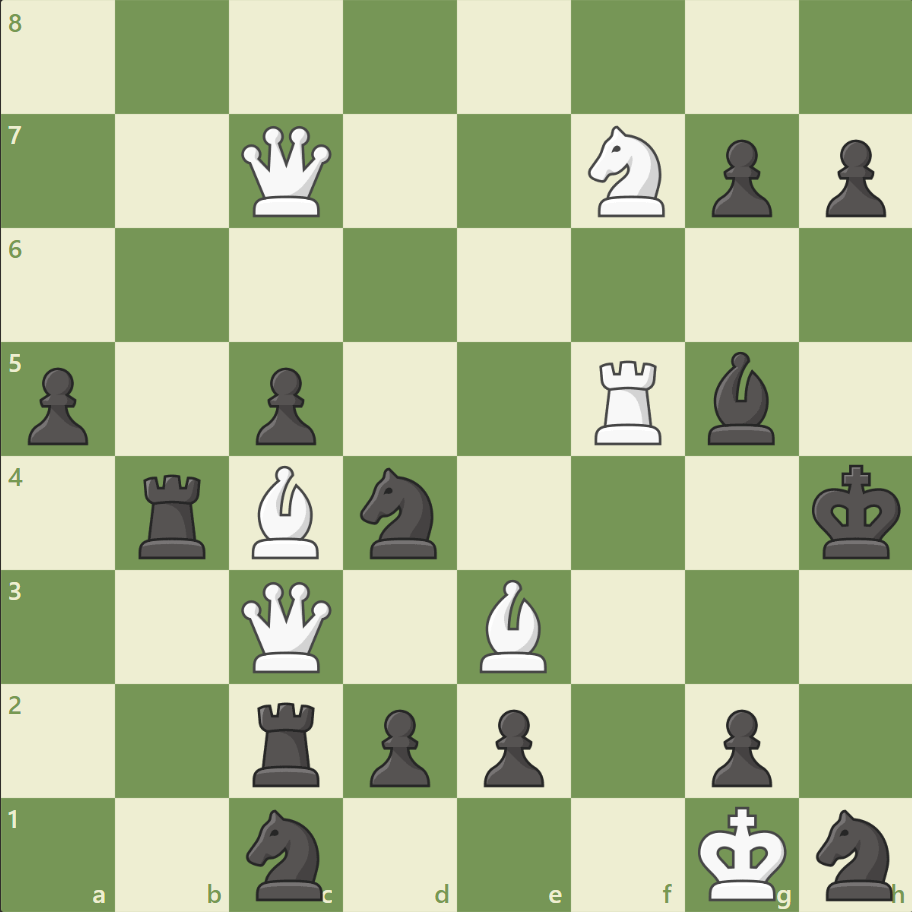B: (244, 460, 328, 563), (471, 574, 555, 676)
K: (692, 798, 792, 906)
N: (579, 121, 676, 223)
Q: (237, 122, 336, 222), (237, 576, 336, 676)
R: (587, 352, 670, 449)
b: (698, 347, 782, 449)
k: (806, 458, 906, 566)
n: (351, 461, 449, 564), (238, 802, 335, 904), (806, 802, 903, 904)
p: (701, 132, 776, 223), (20, 359, 95, 450), (247, 359, 322, 450), (474, 700, 549, 791), (701, 700, 776, 791), (815, 132, 889, 223), (361, 700, 435, 791)
r: (246, 693, 329, 790), (133, 466, 215, 563)
